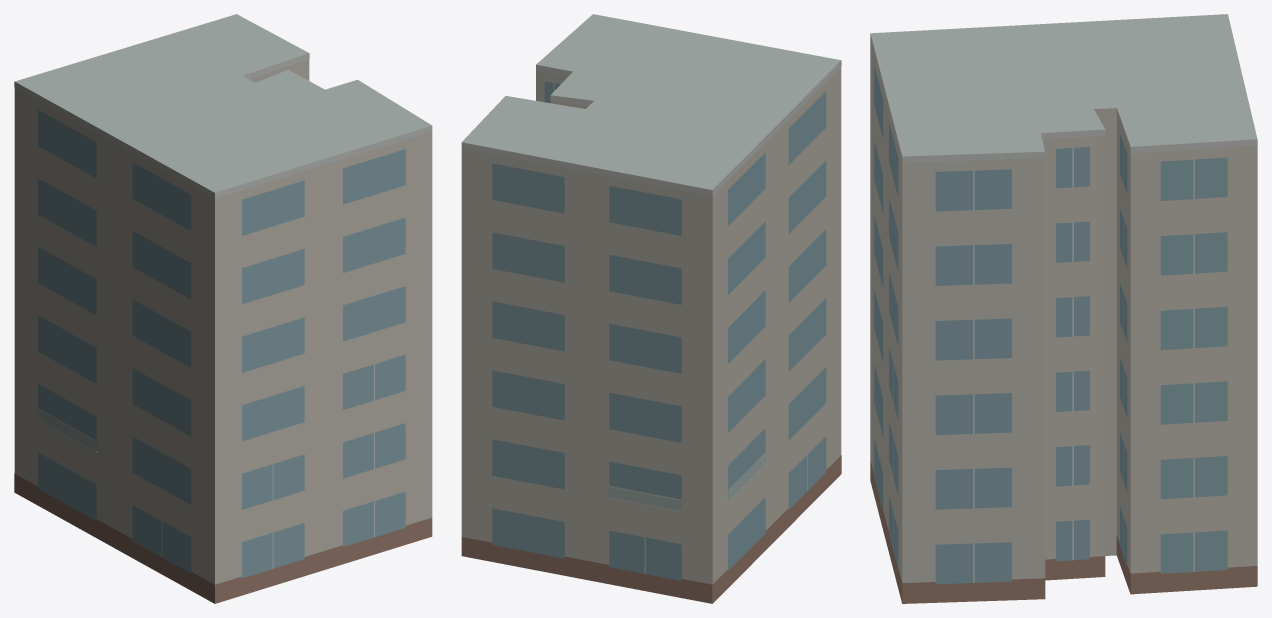
Rendered from survey-upis-32883718.glb.
The picture shows the model from 3 angles, left to right: view 1: azimuth 30°, elevation 25°; view 2: azimuth 150°, elevation 25°; view 3: azimuth 270°, elevation 25°; orthographic projection. The views are drawn at different scales.
Parts seen in each view (by area): view 1: survey-upis-32883718.tmp; view 2: survey-upis-32883718.tmp; view 3: survey-upis-32883718.tmp.
Part boxes in pixels (x1,y1,x2,y2): survey-upis-32883718.tmp: [14, 14, 432, 603]; survey-upis-32883718.tmp: [461, 14, 841, 603]; survey-upis-32883718.tmp: [870, 14, 1257, 603].
Bounding box in the file's own units: 11.62 × 17 × 13.34.
